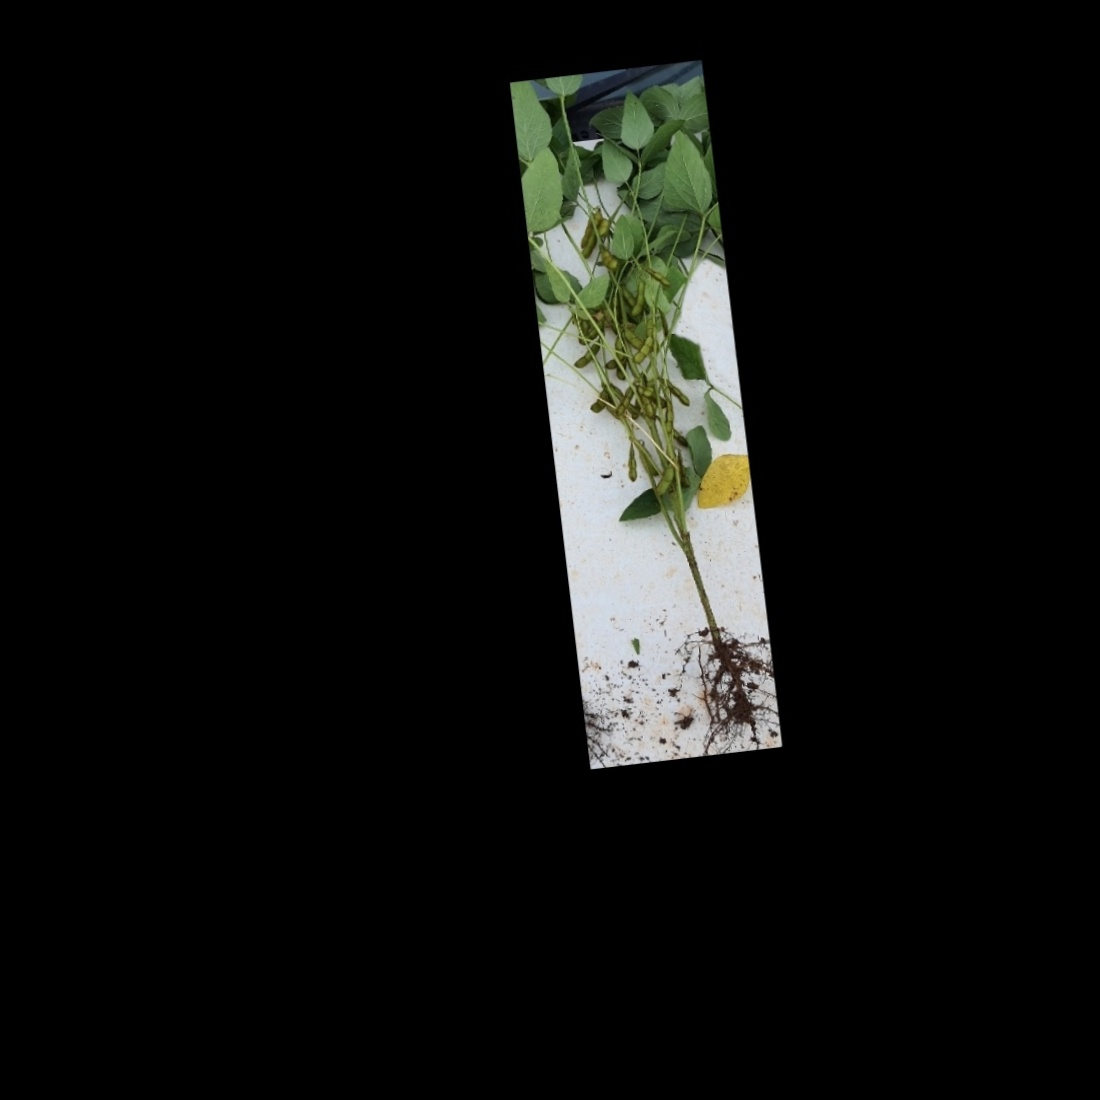pod: (664, 377, 696, 413), (569, 339, 604, 372), (624, 280, 650, 319), (641, 262, 674, 290), (618, 444, 641, 484), (628, 335, 656, 366), (612, 384, 635, 416), (578, 234, 600, 261), (600, 244, 621, 273), (671, 429, 690, 451), (594, 215, 612, 238)
soy: (521, 80, 769, 740)
